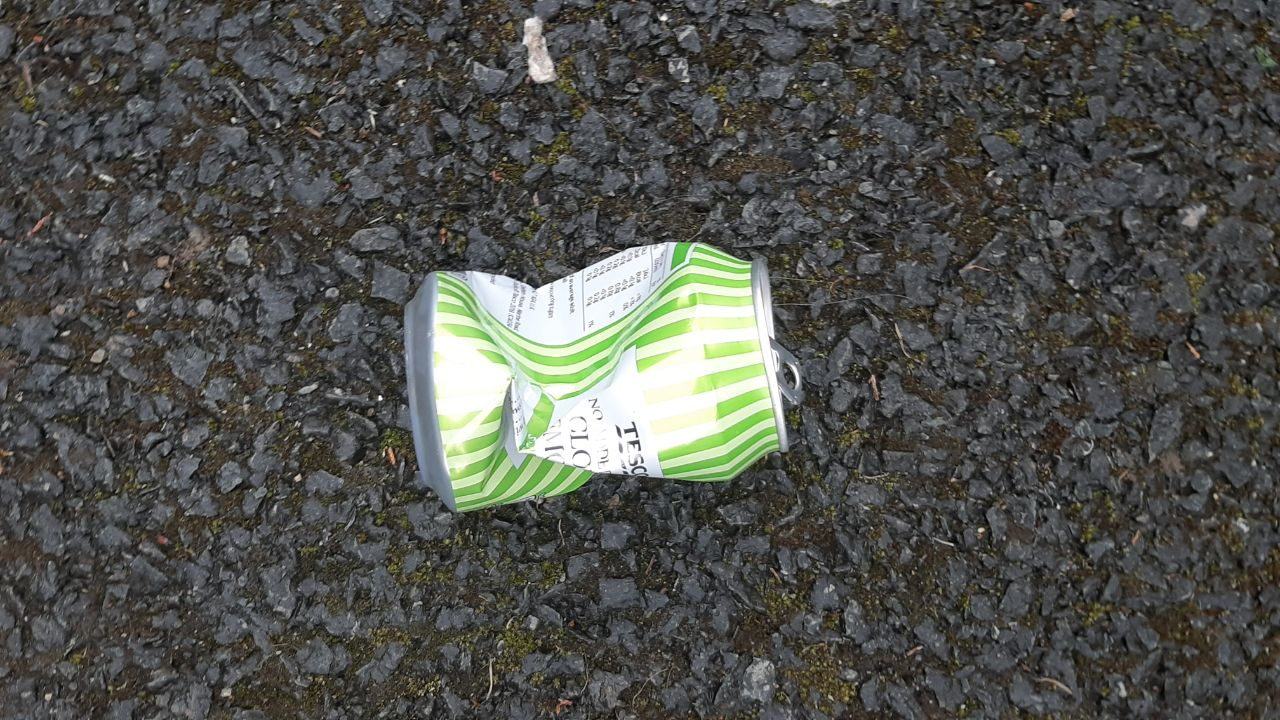Can: (402, 242, 808, 517)
